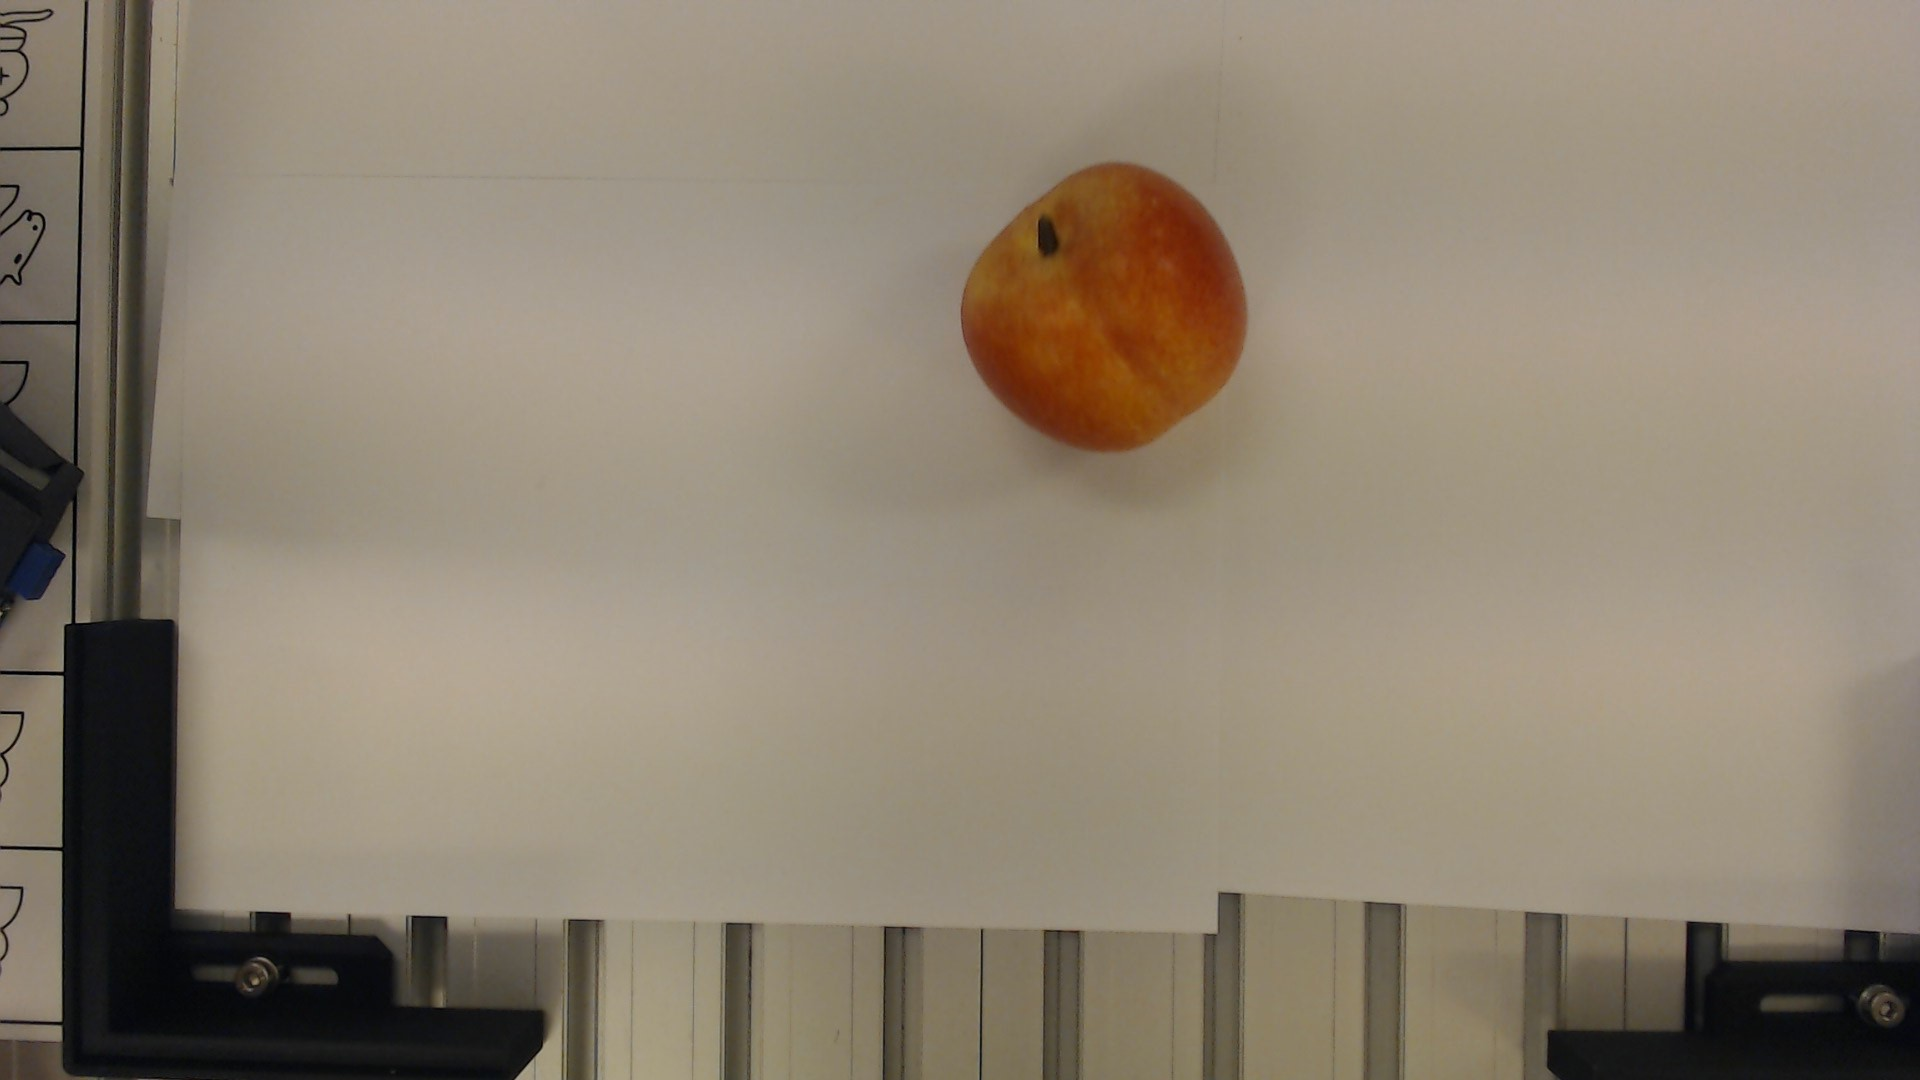Peach: (951, 157, 1255, 460)
